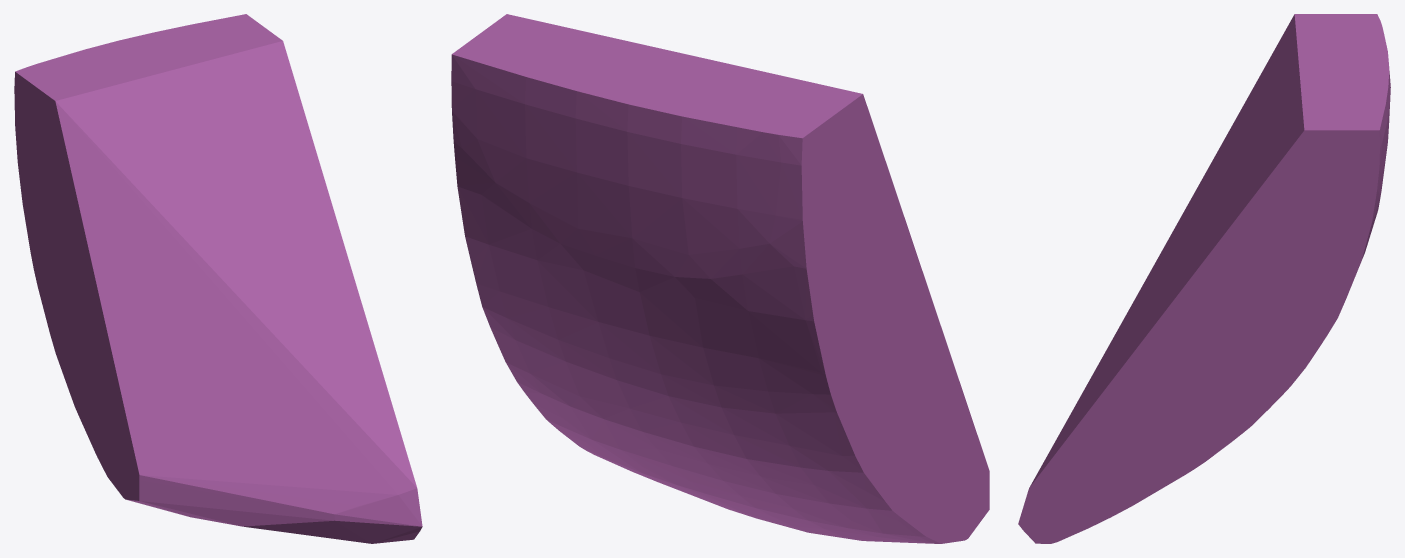
The picture shows the model from 3 angles, left to right: view 1: azimuth 30°, elevation 25°; view 2: azimuth 150°, elevation 25°; view 3: azimuth 270°, elevation 25°; orthographic projection. The views are drawn at different scales.
Bounding box in the file's own units: 0.0232 × 0.0384 × 0.0313.
